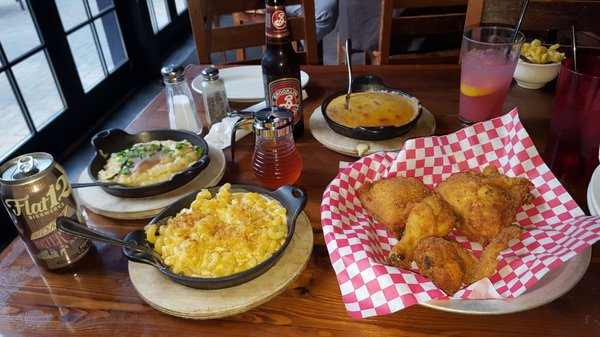sushi: (513, 38, 566, 89)
